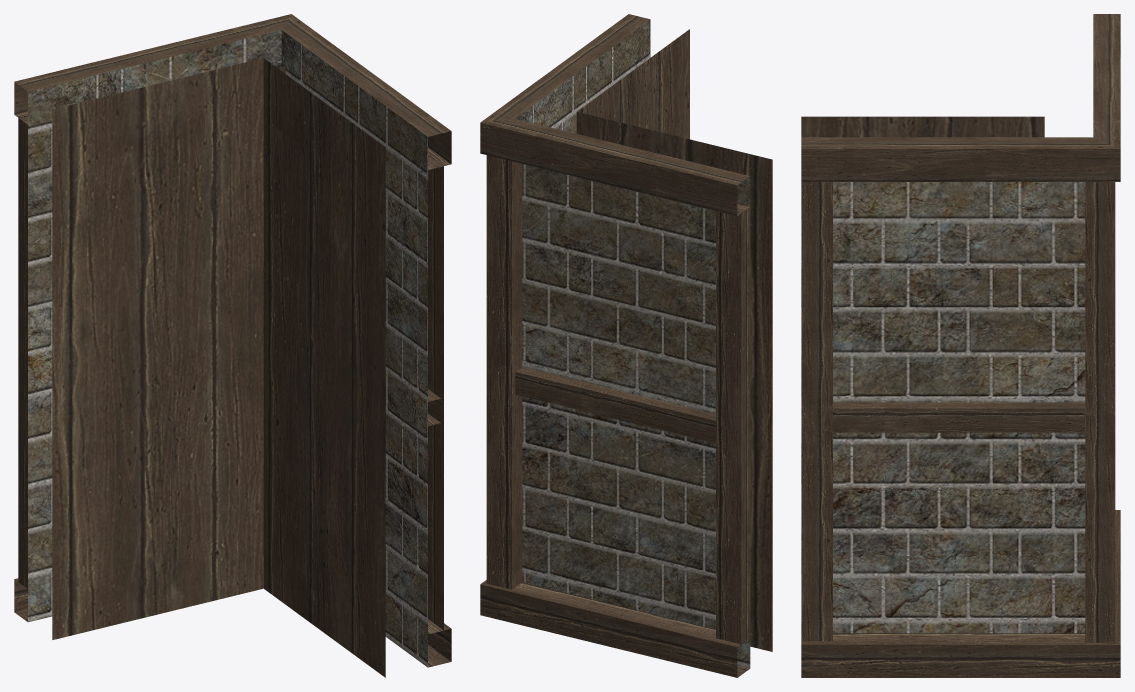
Rendered from ARC1010230.fbx.
3 views of the same model, side by side, from view 1: azimuth 30°, elevation 25°; view 2: azimuth 150°, elevation 25°; view 3: azimuth 270°, elevation 25° (orthographic). The views are drawn at different scales.
Parts seen in each view (by area): view 1: smARC1010230; view 2: smARC1010230; view 3: smARC1010230.
Part boxes in pixels (x1,y1,x2,y2): smARC1010230: [14, 14, 451, 677]; smARC1010230: [480, 14, 772, 677]; smARC1010230: [801, 14, 1120, 677].
Size of the model in its own units: 147 by 268 by 147.
1 material, 1 textured.
